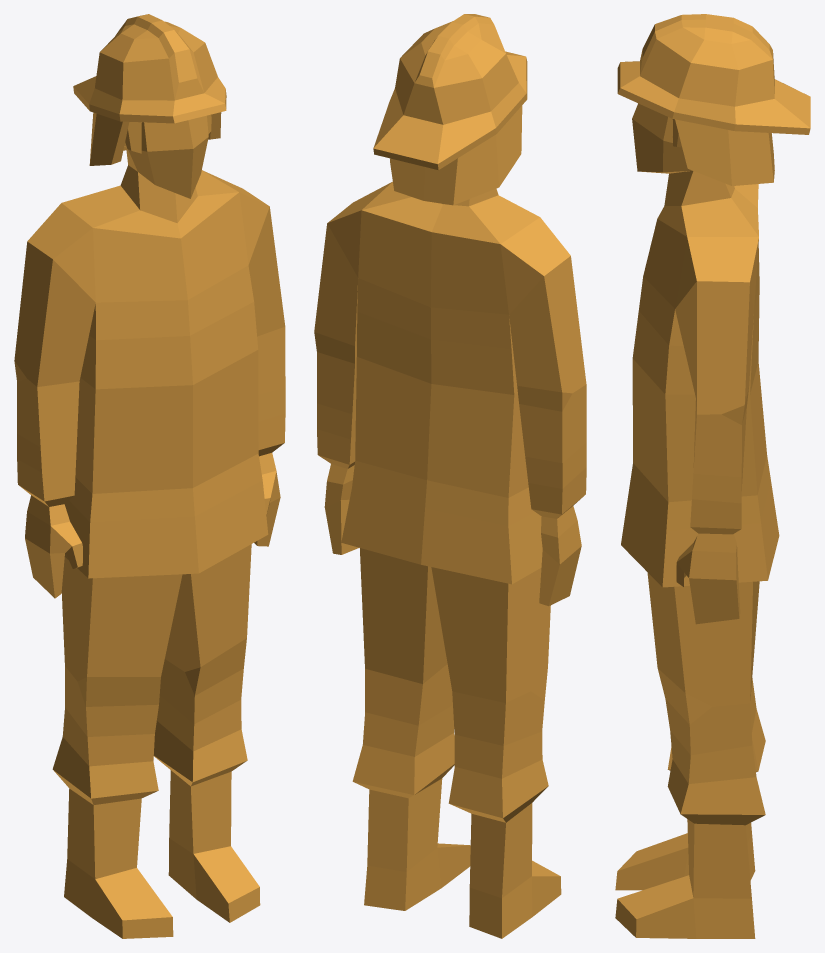
File: man-fire.fbx
The picture shows the model from 3 angles, left to right: view 1: azimuth 30°, elevation 25°; view 2: azimuth 150°, elevation 25°; view 3: azimuth 270°, elevation 25°; orthographic projection.
Visible parts, largest first — view 1: man-fire; view 2: man-fire; view 3: man-fire.
Boxes of the visible parts, bbox=[...] form: man-fire: bbox=[14, 14, 285, 938]; man-fire: bbox=[314, 14, 586, 938]; man-fire: bbox=[615, 14, 810, 938].
Size of the model in its own units: 0.5561 by 1.88 by 0.374.
